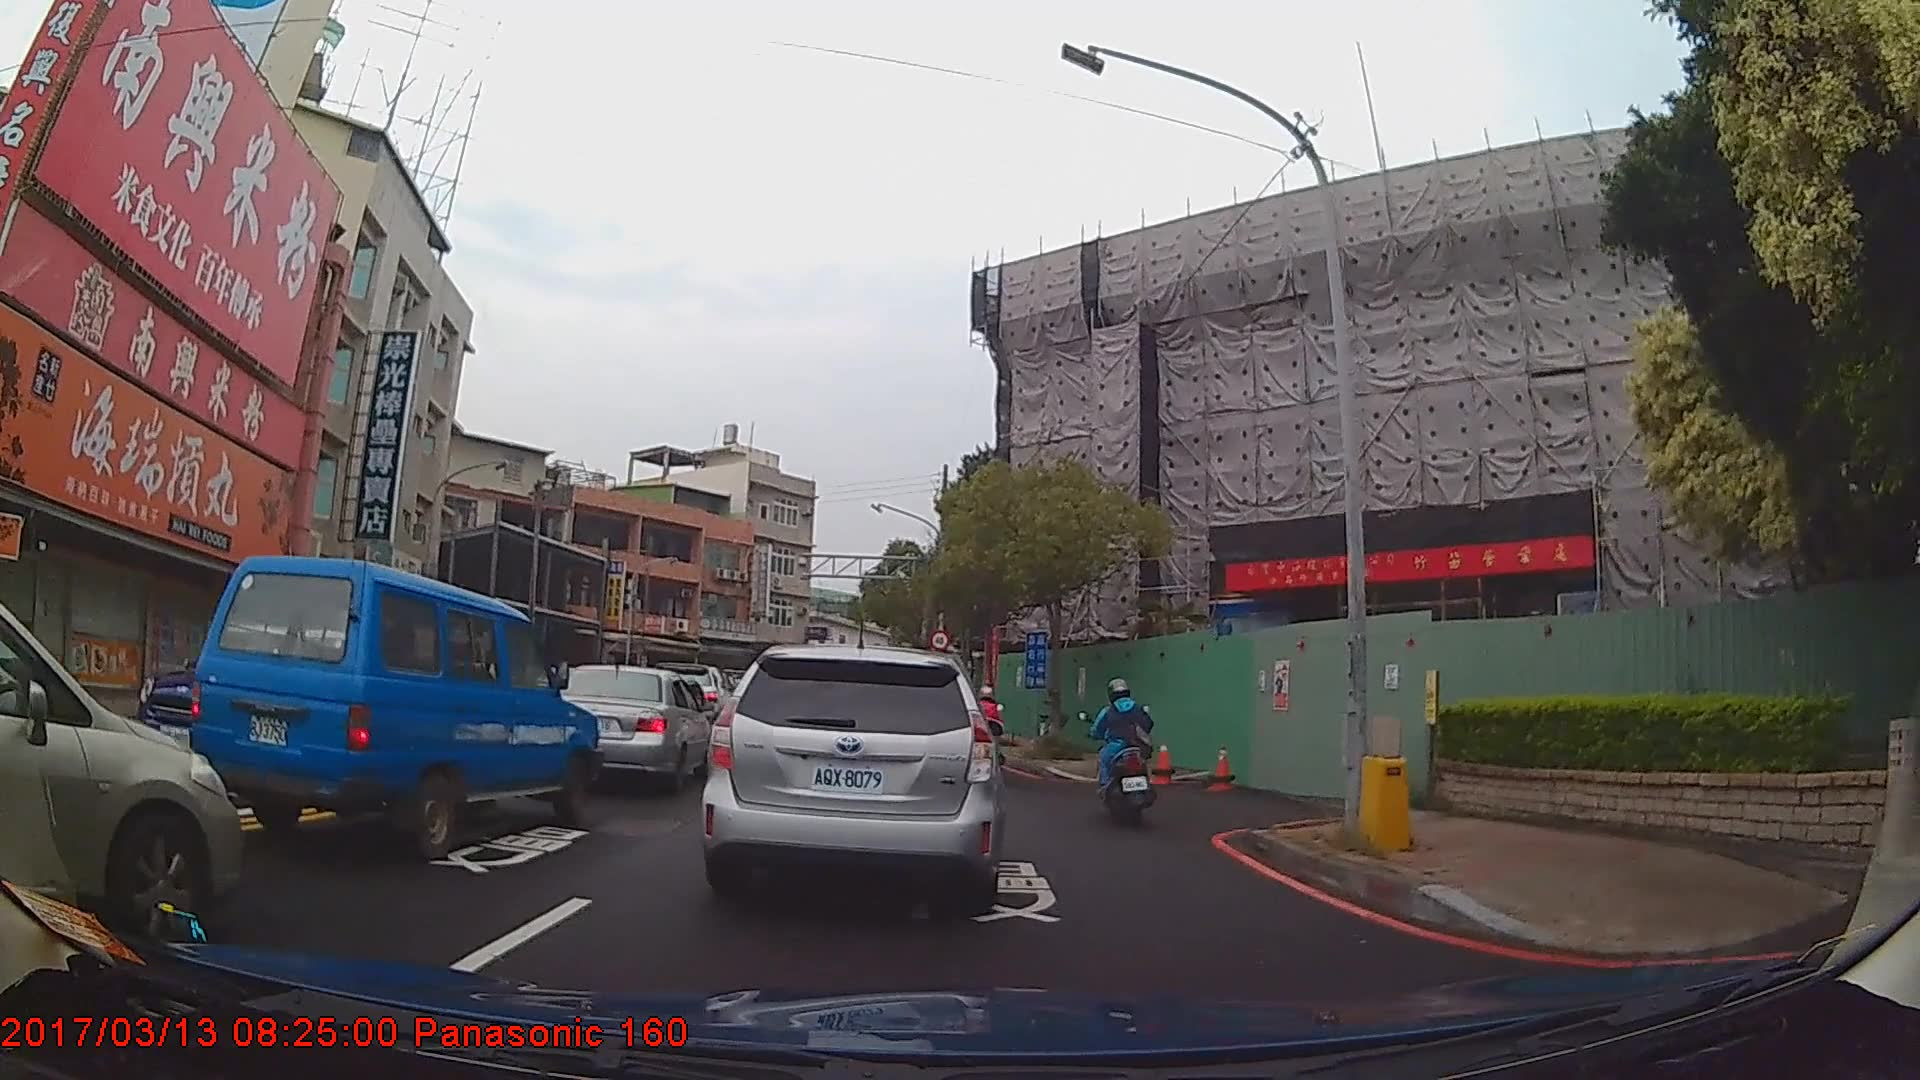rider: (1095, 681, 1155, 825), (970, 684, 1008, 775)
vehicle: (190, 552, 601, 861), (0, 598, 245, 952), (703, 643, 1010, 911), (131, 618, 396, 807), (547, 662, 710, 793)
